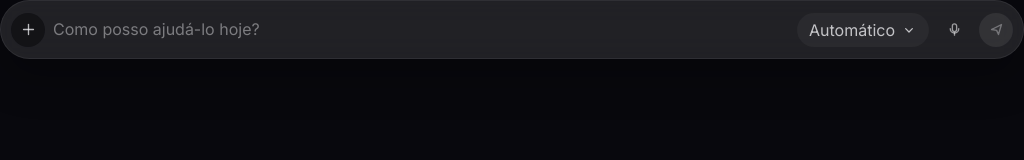
Test: CommandInputPanel › fallback nativo com captura OK e sem fala mostra mensagem de reconhecimento
The width and height of the screenshot is (1024, 160).
Click the button named "Entrada por voz": click(954, 30) top-left (937, 13), bottom-right (971, 47)
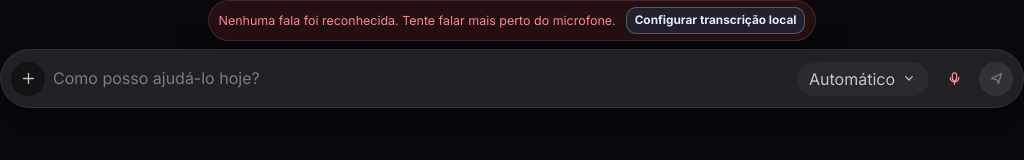
Result: the message shows "Nenhuma fala foi reconhecida. Tente falar mais perto do microfone." at top-left (218, 13), bottom-right (616, 28)
